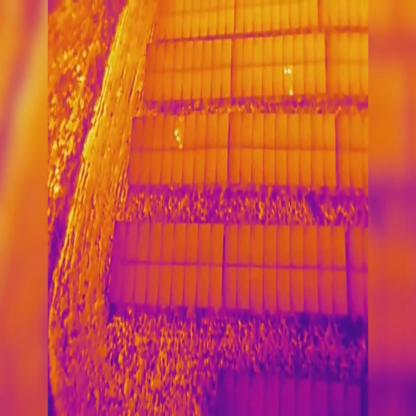hotspot: (288, 88, 294, 97), (176, 136, 181, 145), (281, 64, 286, 72), (174, 128, 178, 138), (286, 68, 290, 75)
